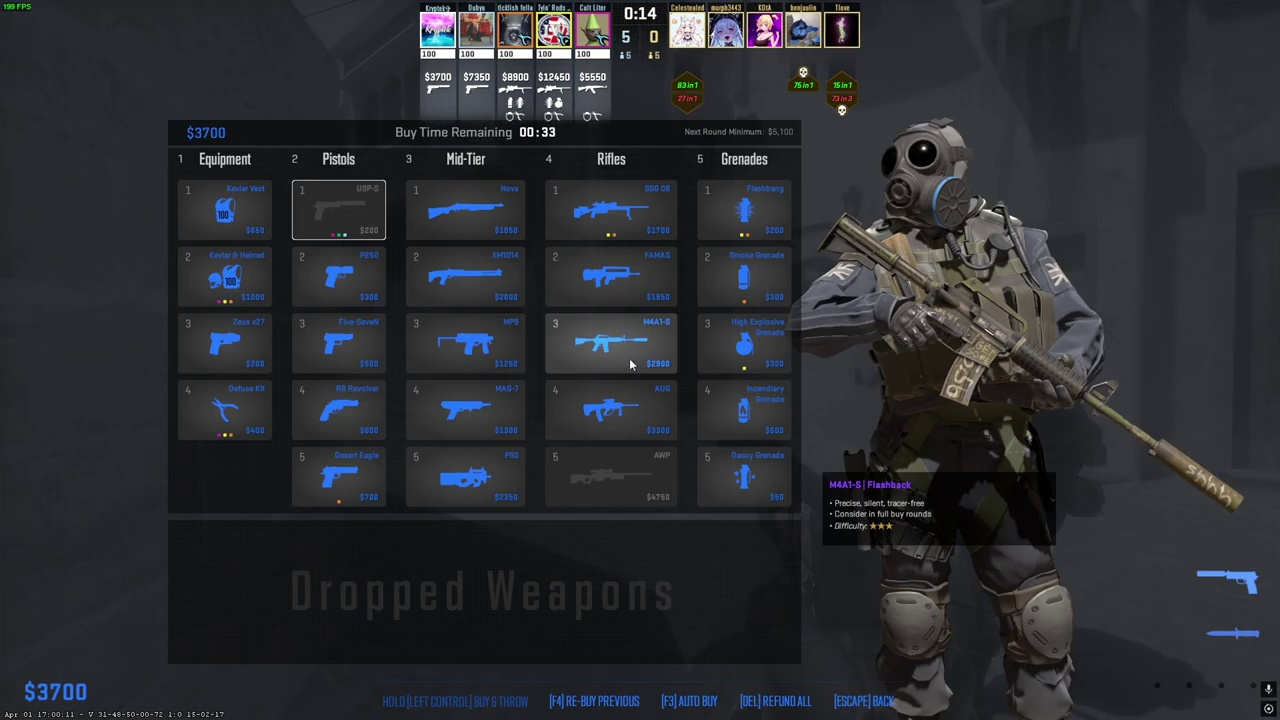CT: (854, 125, 1095, 720)
